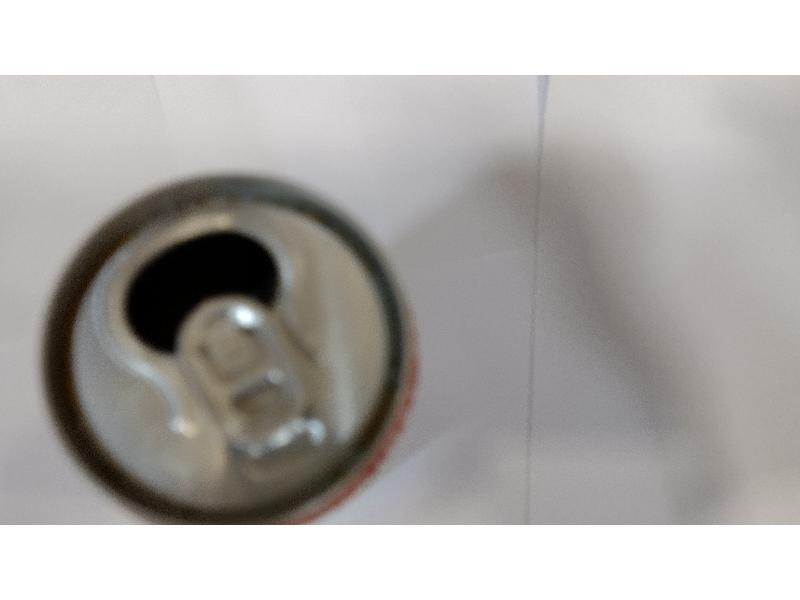can: (32, 163, 432, 525)
